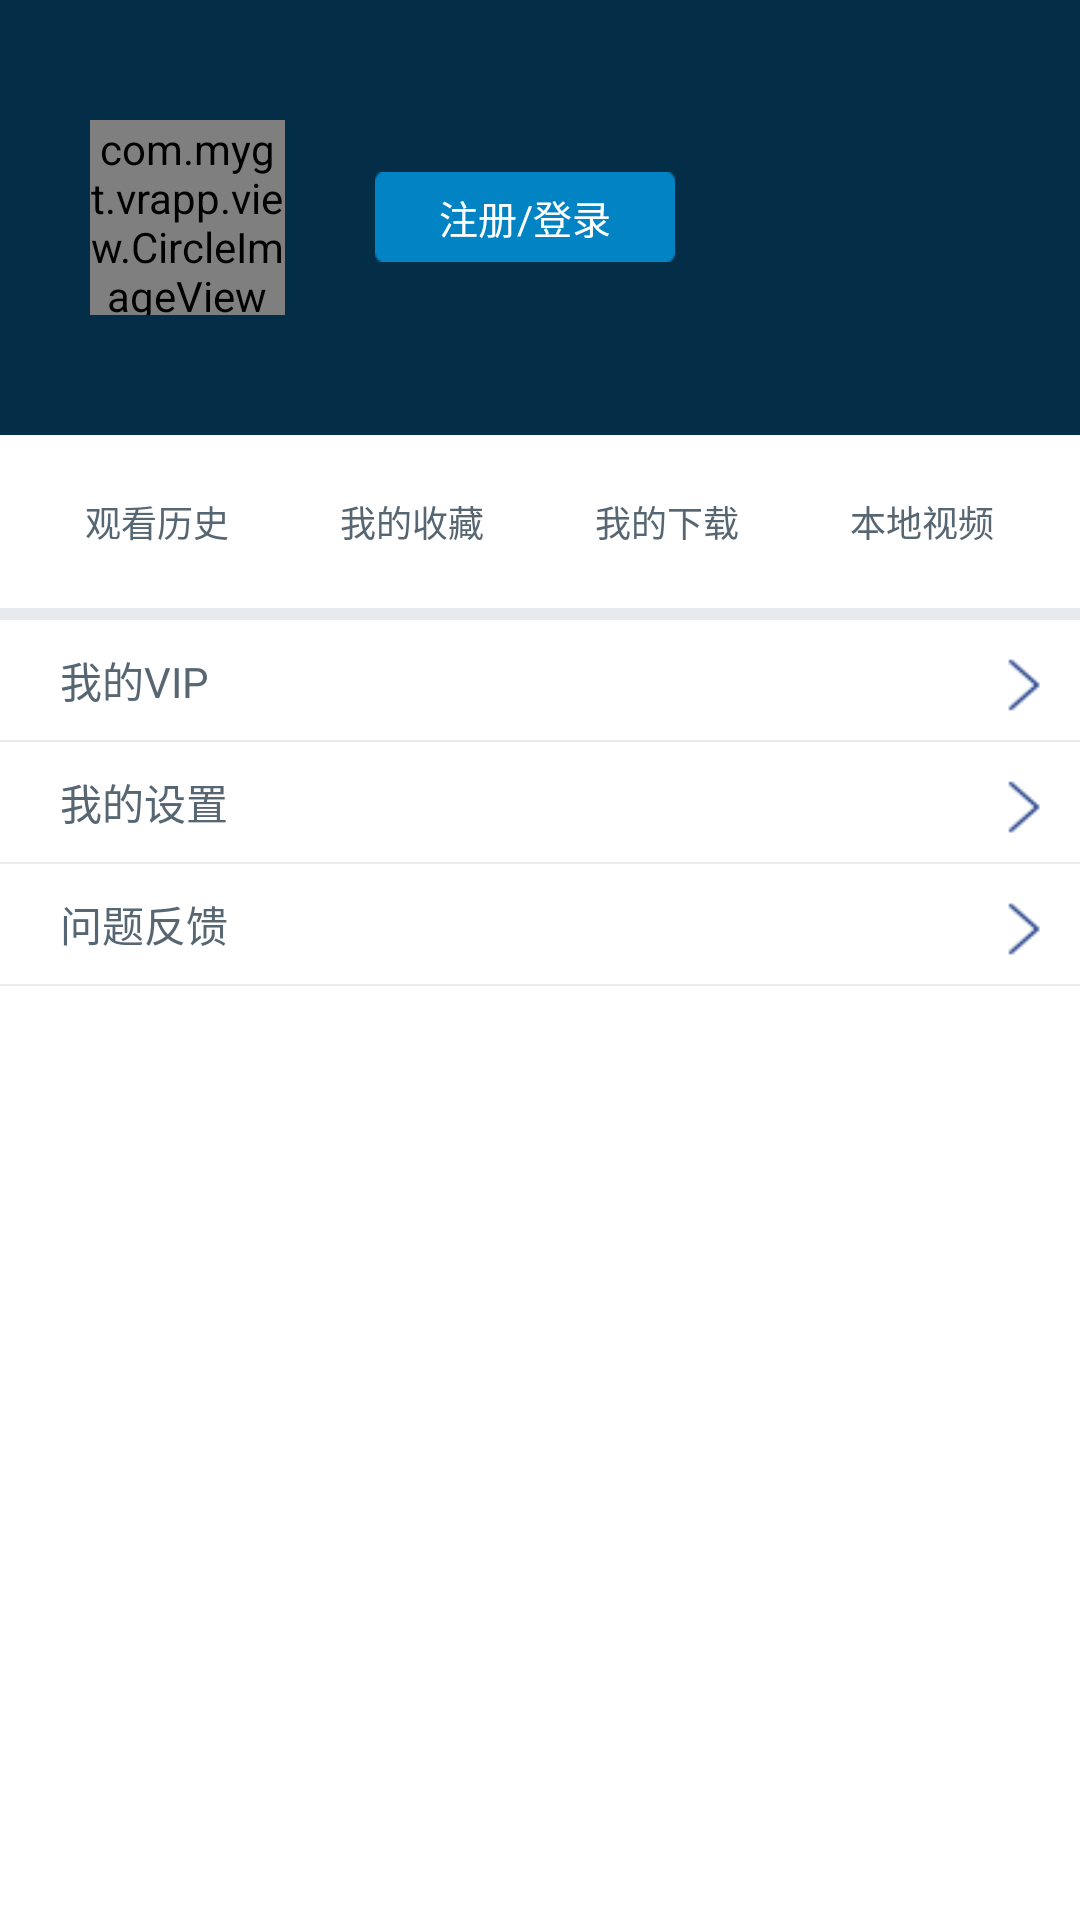

Icons on this 1080×1920 Android screen, each with the point to tap as (x,y):
more: (1024,685), (1024,807), (1024,929)
